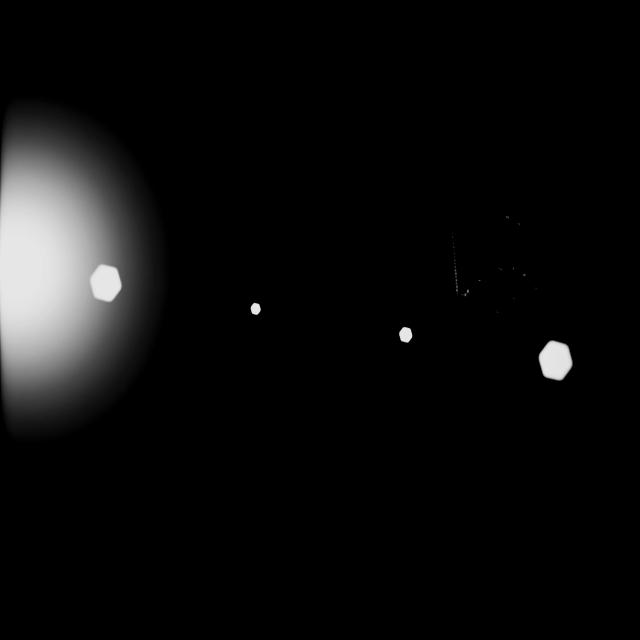satellite: (447, 206, 543, 314)
